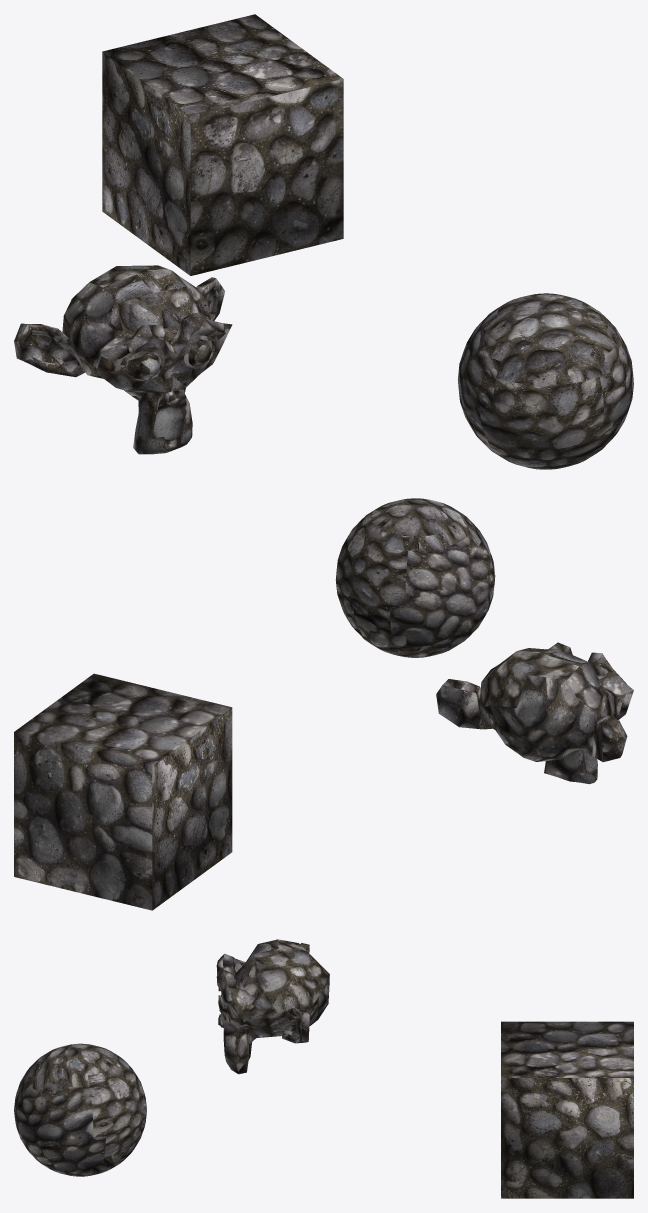
3 views of the same model, one above another, from view 1: azimuth 30°, elevation 25°; view 2: azimuth 150°, elevation 25°; view 3: azimuth 270°, elevation 25° (orthographic). The views are drawn at different scales.
Visible parts, largest first — view 1: Cube, Sphere, Suzanne; view 2: Cube, Sphere, Suzanne; view 3: Cube, Sphere, Suzanne.
Part boxes in pixels (x1,y1,x2,y2): Cube: [102, 14, 343, 275]; Sphere: [457, 293, 633, 469]; Suzanne: [14, 265, 232, 454]; Cube: [14, 673, 232, 910]; Sphere: [335, 498, 495, 657]; Suzanne: [436, 642, 633, 784]; Cube: [501, 1021, 633, 1198]; Sphere: [14, 1043, 146, 1176]; Suzanne: [216, 939, 329, 1074].
Bounding box in the file's own units: 39.28 × 61.04 × 13.1.
